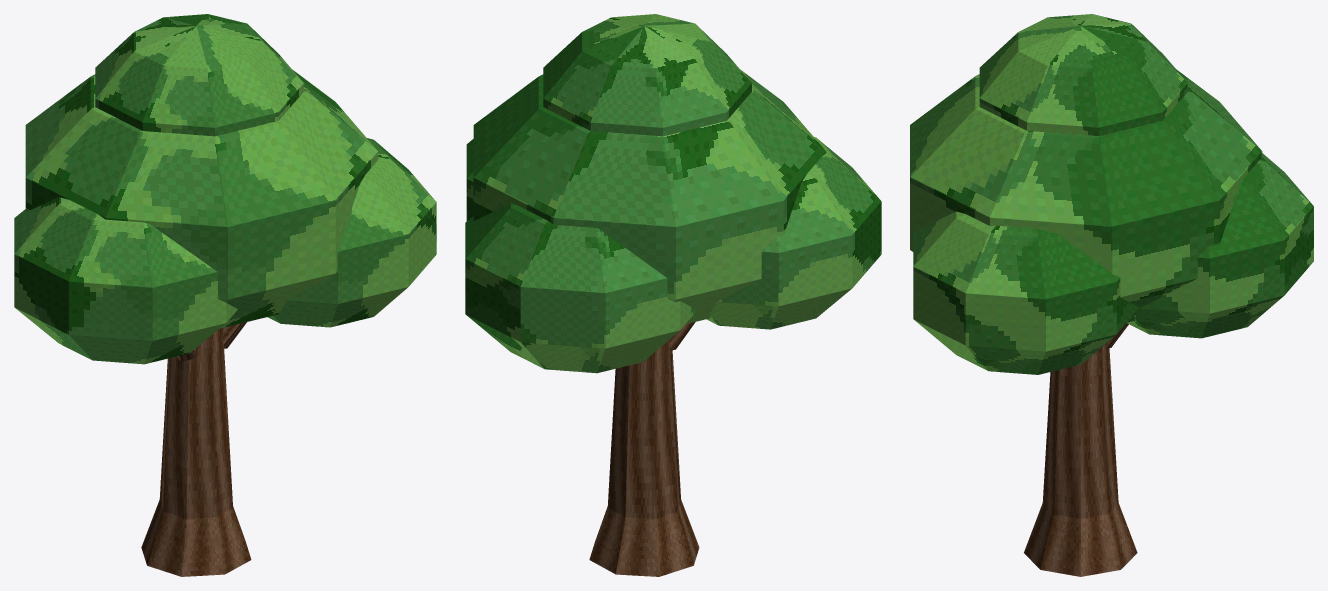
The model's file is arvore_de_floresta.glb.
3 views of the same model, side by side, from view 1: azimuth 30°, elevation 25°; view 2: azimuth 150°, elevation 25°; view 3: azimuth 270°, elevation 25° (orthographic).
Parts seen in each view (by area): view 1: arvore_de_floresta; view 2: arvore_de_floresta; view 3: arvore_de_floresta.
Boxes of the visible parts, x1=… form: arvore_de_floresta: x1=14, y1=14, x2=436, y2=576; arvore_de_floresta: x1=465, y1=14, x2=881, y2=576; arvore_de_floresta: x1=910, y1=14, x2=1313, y2=576.
Bounding box in the file's own units: 3.27 × 4.23 × 2.94.
1 material, 1 textured.
